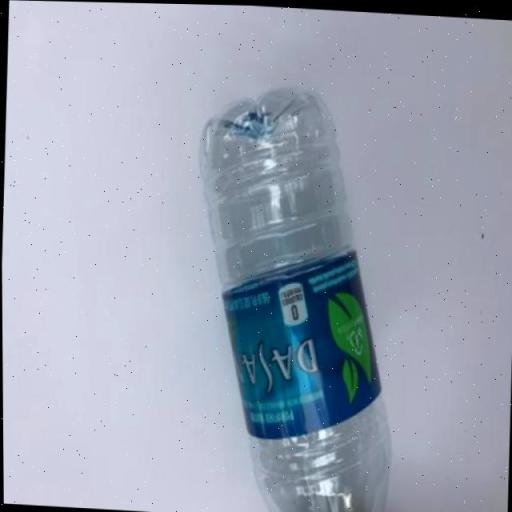plastic: (182, 72, 408, 512)
